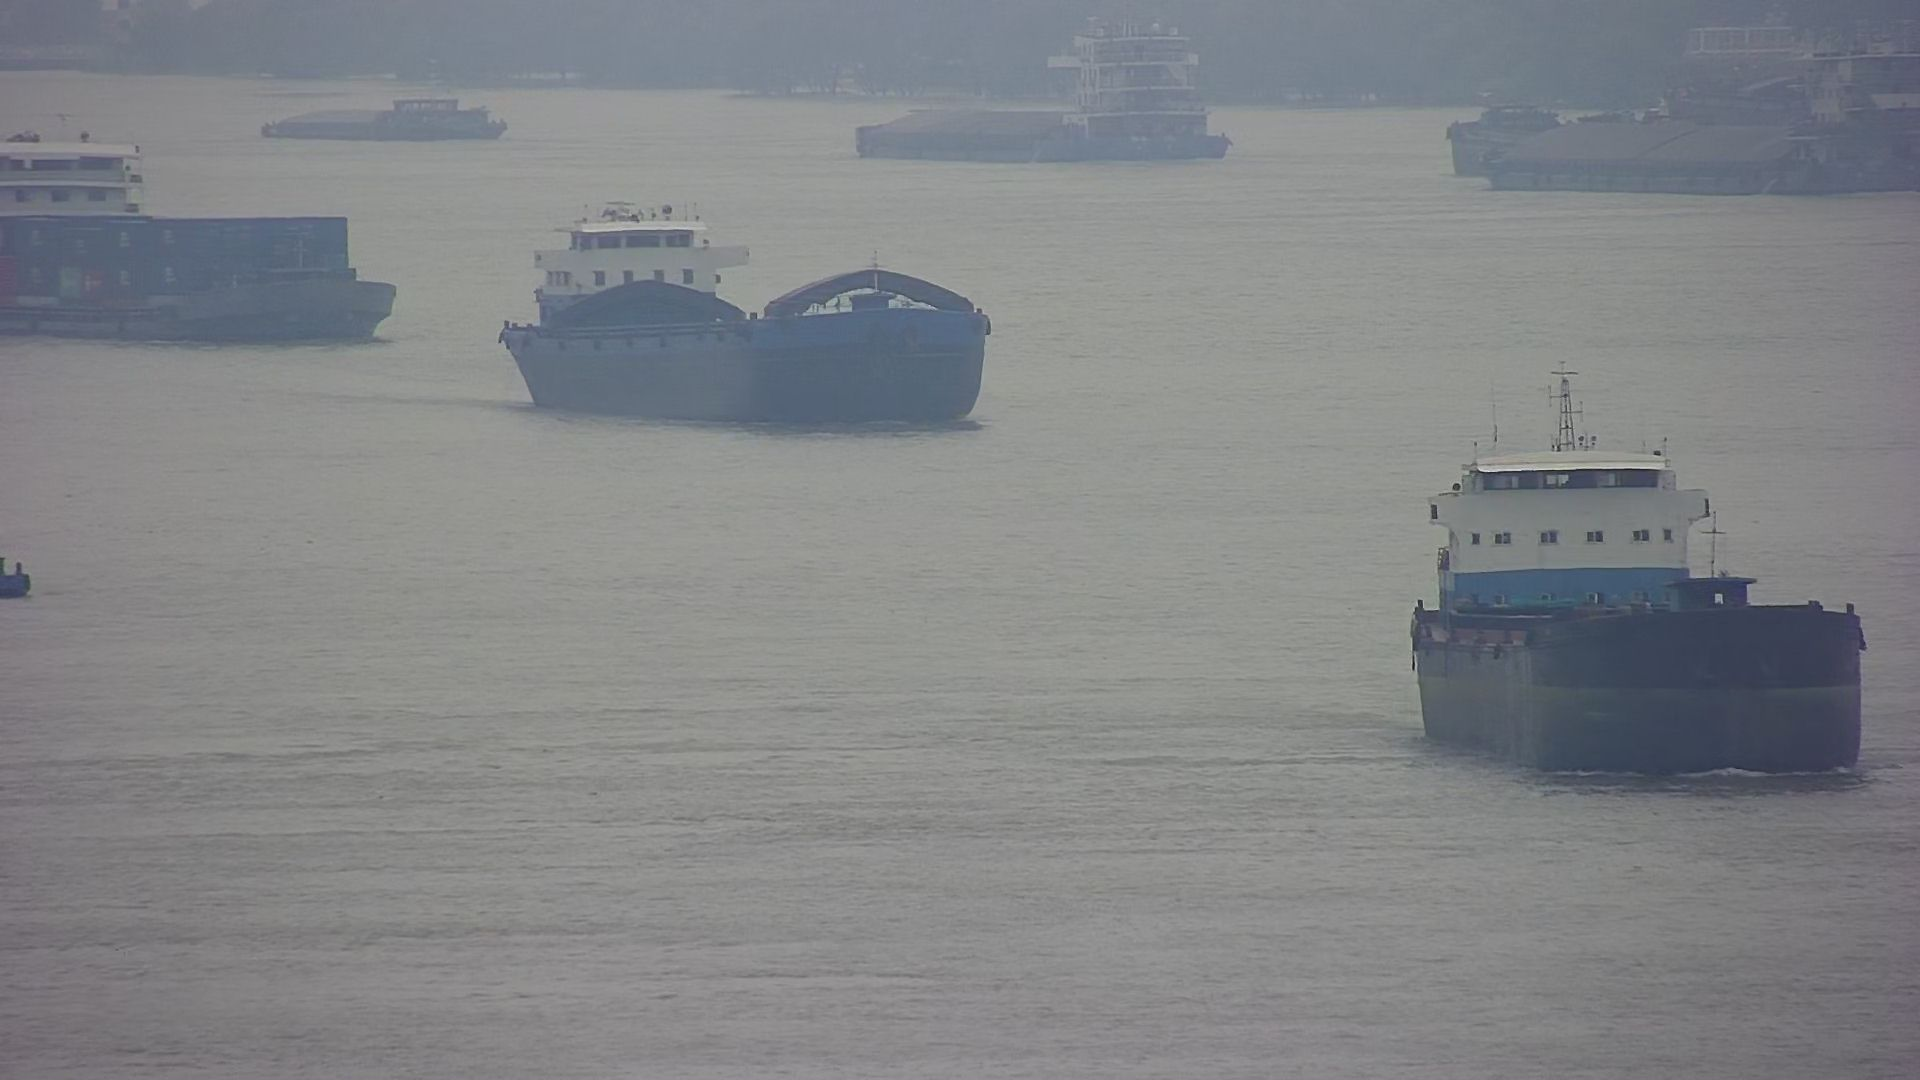ship: (1414, 364, 1866, 775), (501, 200, 989, 433), (3, 127, 396, 347), (1449, 28, 1920, 196), (855, 22, 1236, 167), (260, 91, 502, 145), (3, 556, 32, 597)
